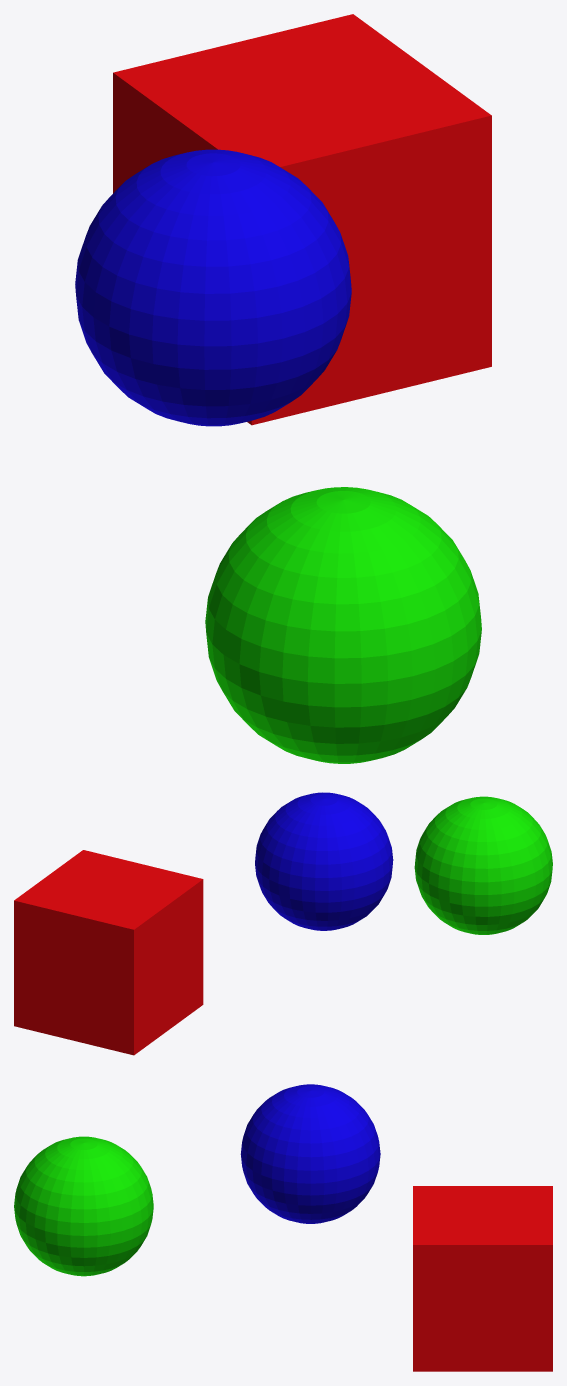
The picture shows the model from 3 angles, top to bottom: view 1: azimuth 30°, elevation 25°; view 2: azimuth 150°, elevation 25°; view 3: azimuth 270°, elevation 25°; orthographic projection. The views are drawn at different scales.
Parts seen in each view (by area): view 1: Cube, Sphere, Sphere.001; view 2: Cube, Sphere.001, Sphere; view 3: Cube, Sphere, Sphere.001.
Part boxes in pixels (box(x1,y1,x2,y2)): Cube: box(113, 14, 491, 425); Sphere: box(205, 487, 481, 763); Sphere.001: box(75, 149, 351, 426); Cube: box(14, 850, 203, 1055); Sphere.001: box(255, 792, 393, 930); Sphere: box(414, 796, 552, 934); Cube: box(413, 1186, 552, 1371); Sphere: box(14, 1136, 153, 1276); Sphere.001: box(240, 1084, 380, 1223).
Size of the model in its own units: 4.95 by 3.19 by 7.71.
